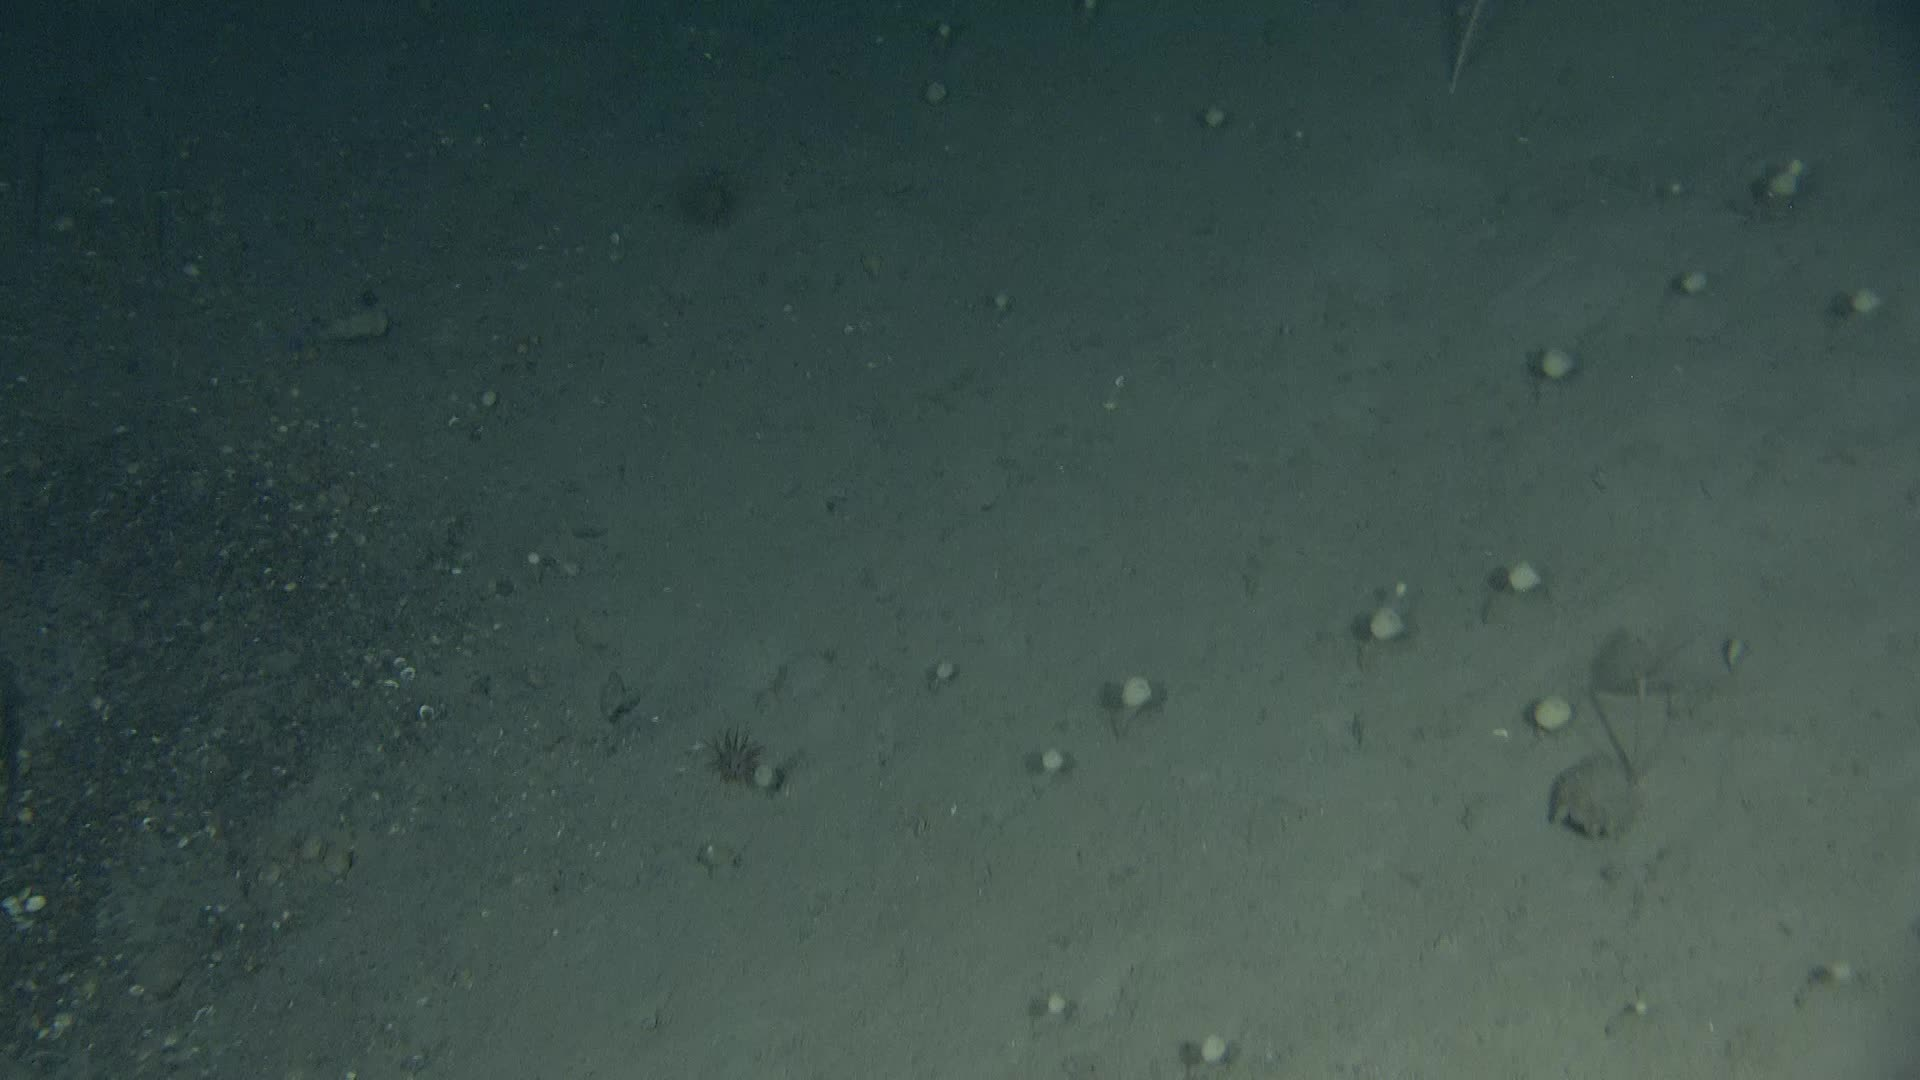S.borealis: (1651, 253, 1727, 330), (1478, 546, 1555, 621), (1353, 593, 1411, 680), (1805, 951, 1882, 1015), (1527, 680, 1584, 766), (1104, 665, 1162, 740), (1027, 735, 1085, 799), (1833, 281, 1891, 345), (1527, 345, 1584, 410), (1180, 1021, 1238, 1080), (1180, 92, 1238, 146), (969, 276, 1027, 330), (749, 745, 787, 810), (1036, 982, 1075, 1047), (922, 65, 960, 129), (1604, 993, 1660, 1036), (922, 653, 960, 707), (1382, 567, 1420, 621), (1767, 167, 1805, 222), (1065, 0, 1124, 33), (1651, 162, 1689, 206), (1785, 146, 1824, 178), (471, 384, 489, 438), (931, 21, 951, 65), (527, 541, 547, 583)
